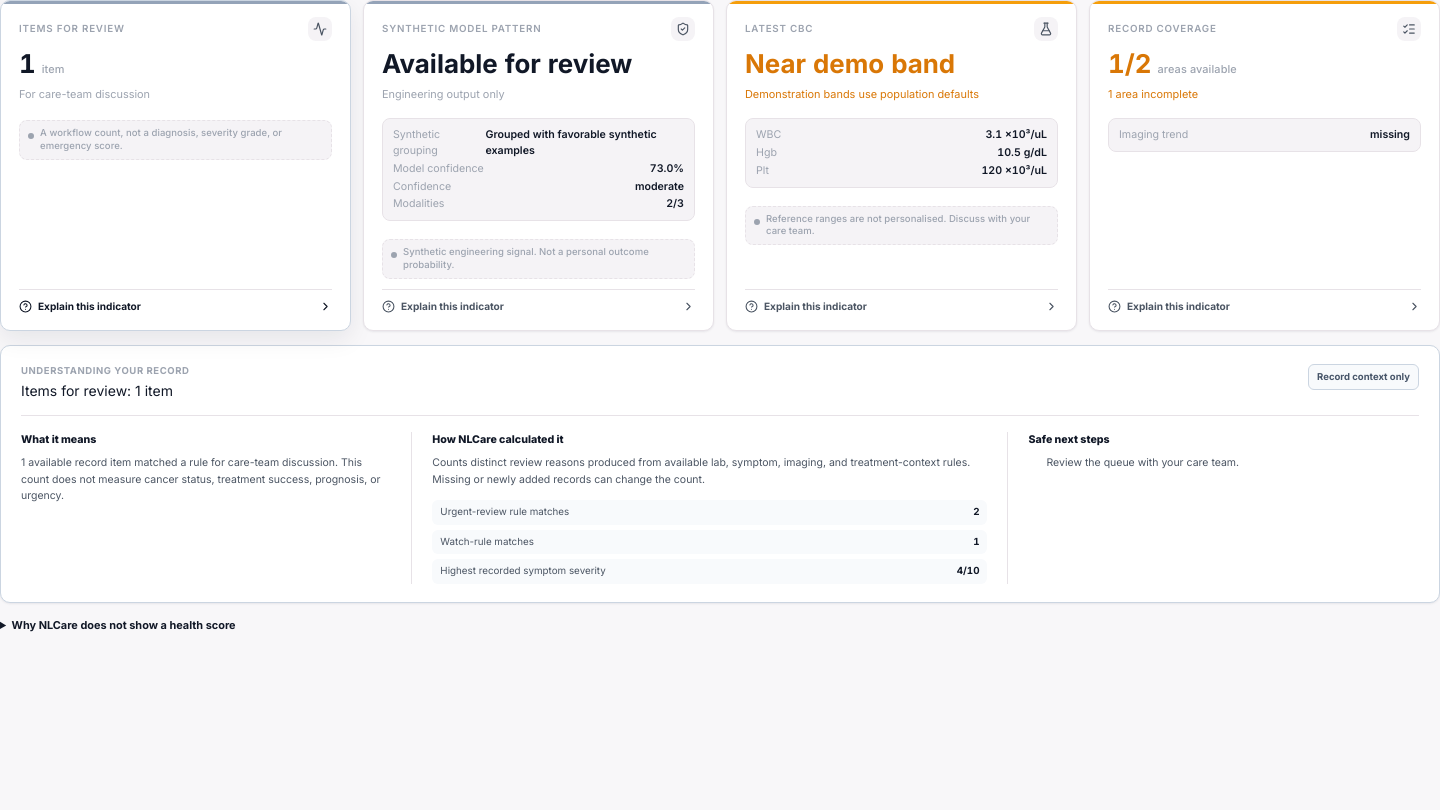
Test: PatientKpiStrip metric explanations › leads with review workload and record coverage instead of a health-like score
expect the text "Items for review" is shown: met, box [19,22,125,36]
expect the text "Synthetic model pattern" is shown: met, box [382,22,542,36]
Click the button "Explain this indicator" below "Modalities" at point(452, 306), box [382,289,695,314]
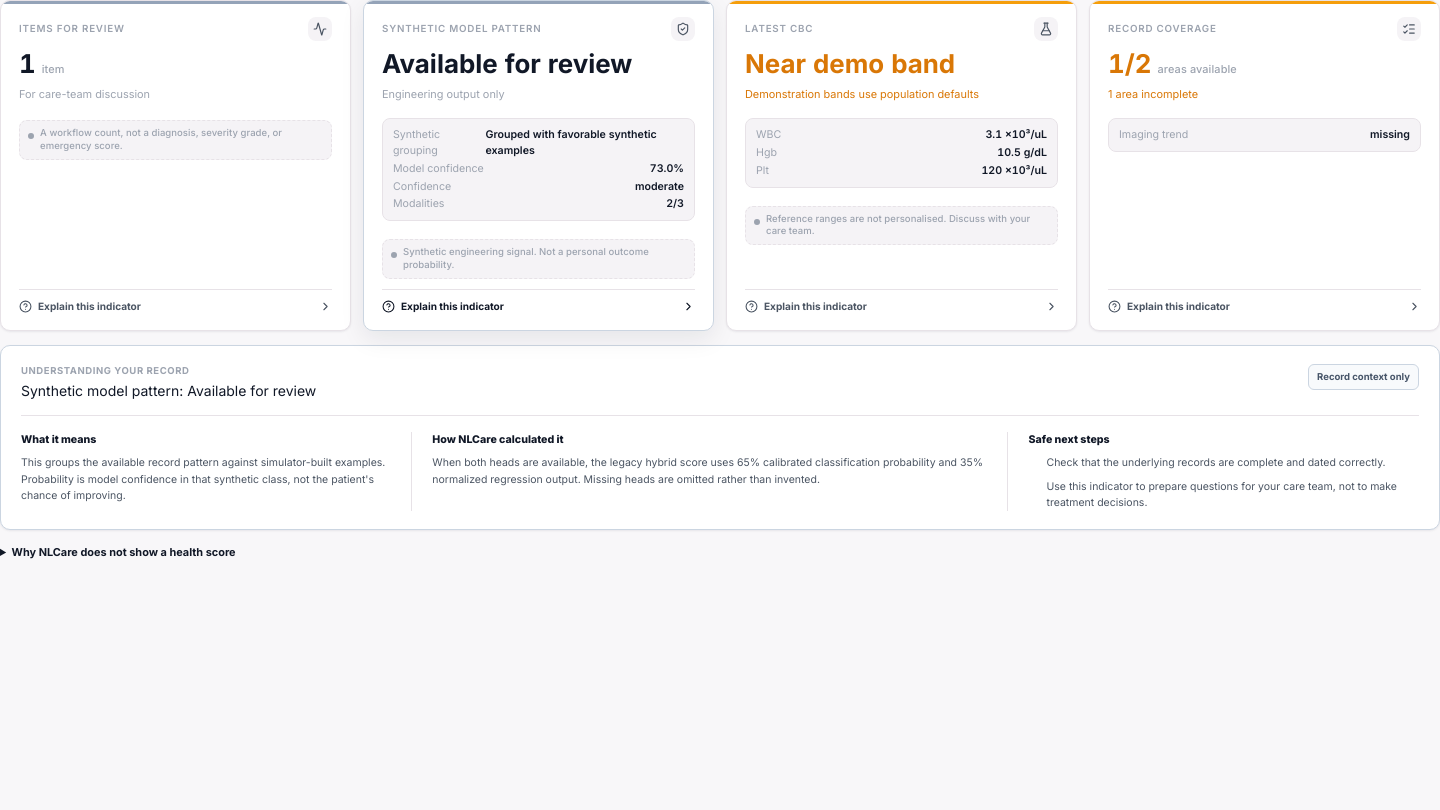
expect the heading "Synthetic model pattern: Available for review" is shown: met, box [21,382,316,401]
expect the text "not the patient's chance of improving" is shown: met, box [21,456,385,502]
